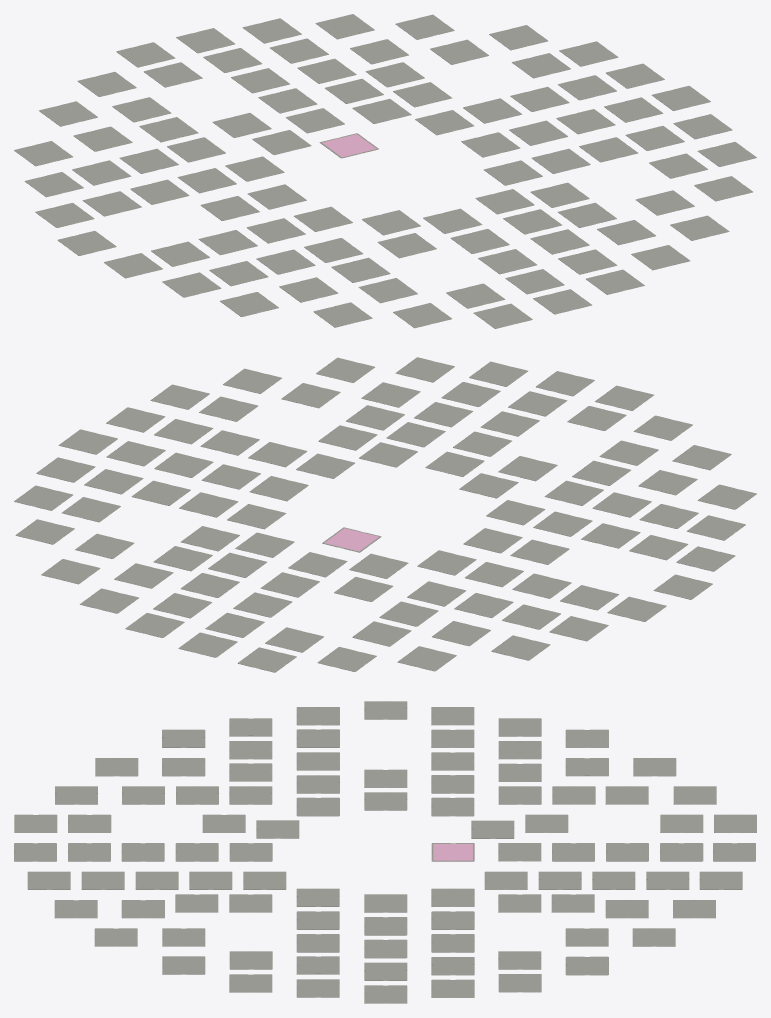
Rendered from SIDEWALKS.fbx.
3 views of the same model, one above another, from view 1: azimuth 30°, elevation 25°; view 2: azimuth 150°, elevation 25°; view 3: azimuth 270°, elevation 25° (orthographic). The views are drawn at different scales.
Parts seen in each view (by area): view 1: Plane.031, Plane.059, Plane.106, Plane.001, Plane.007, Plane.026, Plane.029, Plane.036, Plane.041, Plane.043, Plane.048, Plane.053 (+83 smaller); view 2: Plane.060, Plane.068, Plane.083, Plane.104, Plane, Plane.022, Plane.023, Plane.025, Plane.034, Plane.040, Plane.055, Plane.057 (+83 smaller); view 3: Plane.003, Plane.052, Plane.032, Plane.036, Plane.005, Plane.021, Plane.027, Plane.028, Plane.034, Plane.041, Plane.044, Plane.057 (+83 smaller).
Part boxes in pixels (box(x1,y1,x2,y2)): Plane.031: box(315, 14, 374, 39); Plane.059: box(331, 257, 390, 282); Plane.106: box(558, 249, 617, 274); Plane.001: box(604, 97, 663, 122); Plane.007: box(673, 114, 732, 139); Plane.026: box(559, 41, 618, 66); Plane.029: box(365, 62, 424, 87); Plane.036: box(225, 156, 284, 181); Plane.041: box(167, 137, 225, 162); Plane.043: box(72, 160, 131, 185); Plane.048: box(246, 218, 305, 243); Plane.053: box(256, 249, 315, 274); Plane.060: box(599, 440, 658, 465); Plane.068: box(205, 612, 264, 637); Plane.083: box(508, 391, 567, 416); Plane.104: box(386, 422, 445, 447); Plane: box(58, 429, 117, 454); Plane.022: box(653, 574, 712, 599); Plane.023: box(179, 492, 238, 517); Plane.025: box(36, 457, 95, 482); Plane.034: box(41, 559, 100, 584); Plane.040: box(607, 596, 666, 621); Plane.055: box(686, 515, 745, 540); Plane.057: box(459, 473, 518, 498); Plane.003: box(364, 939, 407, 958); Plane.052: box(296, 797, 339, 816); Plane.032: box(565, 956, 608, 975); Plane.036: box(431, 797, 474, 816); Plane.005: box(364, 894, 407, 912); Plane.021: box(431, 934, 474, 952); Plane.027: box(498, 951, 541, 969); Plane.028: box(498, 894, 541, 912); Plane.034: box(632, 928, 675, 946); Plane.041: box(498, 786, 541, 804); Plane.044: box(498, 718, 541, 736); Plane.057: box(256, 820, 299, 838).
Size of the model in its own units: 2277 by 1.31 by 2365.
